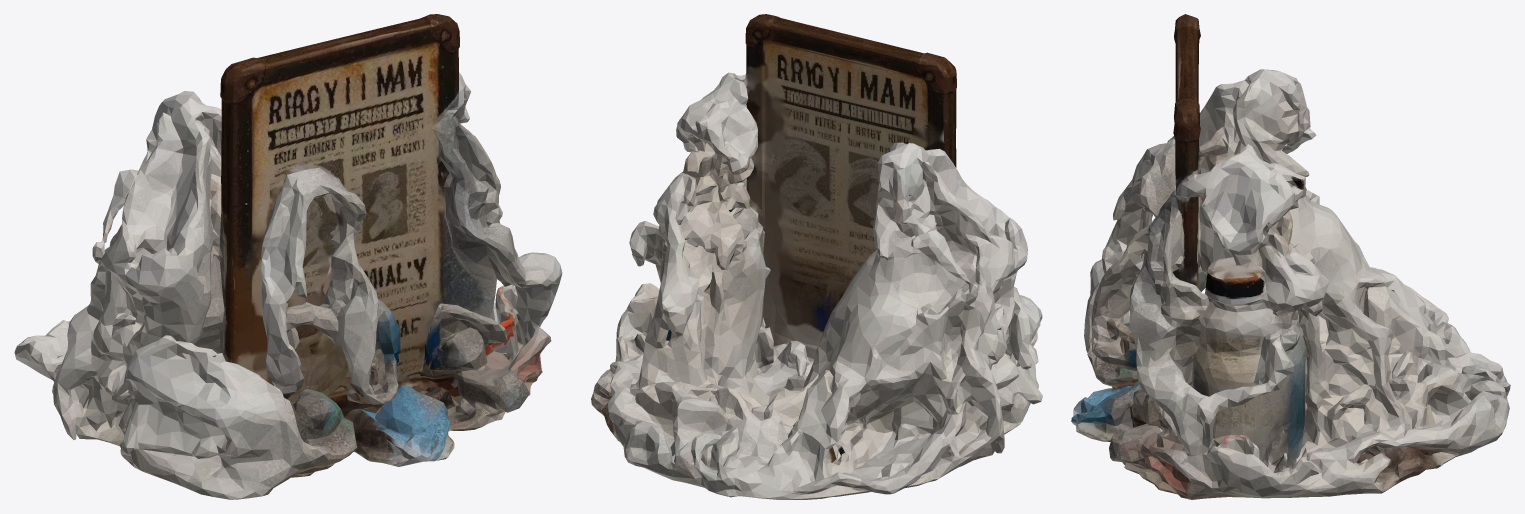
Rendered from chest (275).glb.
3 views of the same model, side by side, from view 1: azimuth 30°, elevation 25°; view 2: azimuth 150°, elevation 25°; view 3: azimuth 270°, elevation 25° (orthographic). The views are drawn at different scales.
Parts seen in each view (by area): view 1: Hy21_Mesh.obj; view 2: Hy21_Mesh.obj; view 3: Hy21_Mesh.obj.
Boxes of the visible parts, <box> form: Hy21_Mesh.obj: <box>14,14,562,499</box>; Hy21_Mesh.obj: <box>591,14,1042,499</box>; Hy21_Mesh.obj: <box>1071,14,1510,499</box>.
Size of the model in its own units: 1.96 by 1.62 by 1.82.
Materials: 1 (1 with a texture image).
